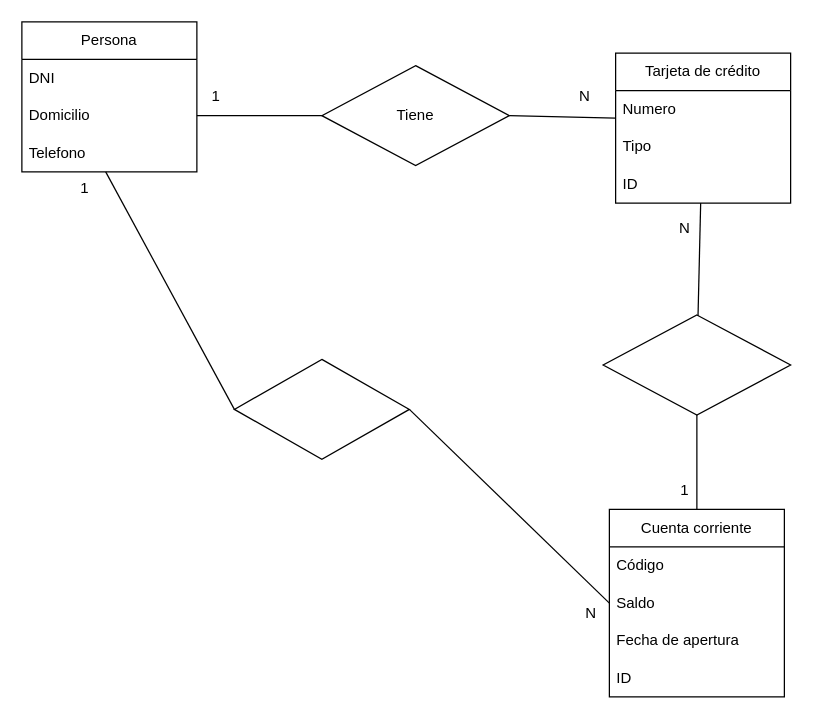
This 813x719 diagram has some shape labels left out. The centre of each missing label's shape, as x and y in pixels:
Asocia: the point at 696,364
Pertenece: the point at 321,408
